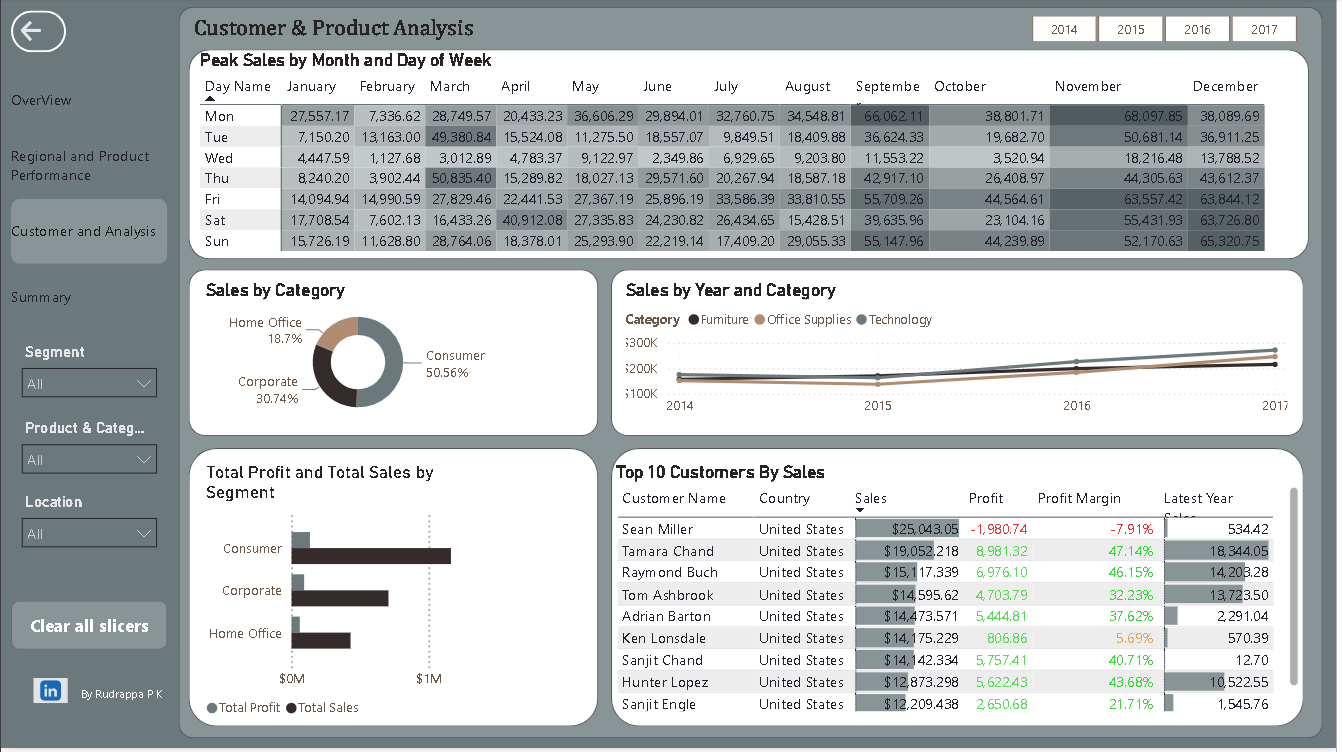

This screenshot's page, from the dashboard's own definition file:
{"tool":"powerbi","page":{"name":"Customer and Analysis","canvas":[1280,720],"ordinal":2},"visuals":[{"type":"shape","box":[170,8.6,1097.1,701.4],"z":0},{"type":"textbox","box":[180,11.4,440,44.3],"z":1000},{"type":"slicer","fields":{"Values":["Sample_Superstore_Clean.Year"]},"box":[962.5,10,303.8,38.8],"z":2000},{"type":"shape","box":[180,431.4,392.9,267.1],"z":3000},{"type":"clusteredBarChart","fields":{"Category":["Sample_Superstore_Clean.Segment"],"Y":["Sample_Superstore_Clean.Total Profit","Sample_Superstore_Clean.Total Sales"]},"box":[191.4,444.3,301.4,254.3],"z":4000},{"type":"shape","box":[180,260,392.9,160],"z":5000},{"type":"donutChart","title":"Sales by Category","fields":{"Category":["Sample_Superstore_Clean.Segment"],"Y":["Sample_Superstore_Clean.Total Sales"]},"box":[191.4,270,301.4,140],"z":6000},{"type":"shape","box":[180,48.6,1074.3,201.4],"z":7000},{"type":"pivotTable","title":"Peak Sales by Month and Day of Week","fields":{"Columns":["Sample_Superstore_Clean.Month"],"Rows":["Sample_Superstore_Clean.Day Name"],"Values":["Sum(Sample_Superstore_Clean.Sales)"]},"box":[185.7,48.6,1062.9,198.6],"z":8000},{"type":"shape","box":[584.3,260,664.3,160],"z":9000},{"type":"lineChart","title":"Sales by Year and Category","fields":{"Category":["Sample_Superstore_Clean.Year"],"Series":["Sample_Superstore_Clean.Category"],"Y":["Sample_Superstore_Clean.Total Sales"]},"box":[594.3,270,644.3,140],"z":10000},{"type":"shape","box":[584.3,431.4,664.3,267.1],"z":11000},{"type":"tableEx","title":"Top 10 Customers By Sales","fields":{"Values":["Sample_Superstore_Clean.Customer Name","Sample_Superstore_Clean.Country","Sample_Superstore_Clean.Total Sales","Sample_Superstore_Clean.Total Profit","Sample_Superstore_Clean.Profit Margin","Sample_Superstore_Clean.Latest Year Sales"]},"box":[584.3,444.3,664.3,244.3],"z":12000},{"type":"pageNavigator","box":[10,65.7,150,255.7],"z":13001},{"type":"actionButton","box":[10,577.1,150,47.1],"z":13002},{"type":"slicer","fields":{"Values":["Sample_Superstore_Clean.Category","Sample_Superstore_Clean.Sub-Category"]},"box":[10,398.6,150,84.3],"z":13003},{"type":"slicer","fields":{"Values":["Sample_Superstore_Clean.Region","Sample_Superstore_Clean.State"]},"box":[10,470,150,84.3],"z":13004},{"type":"slicer","fields":{"Values":["Sample_Superstore_Clean.Segment"]},"box":[10,325.7,150,71.4],"z":13005},{"type":"image","box":[24.3,651.4,47.1,24.3],"z":13006},{"type":"textbox","box":[71.4,651.4,88.6,58.6],"z":13007},{"type":"actionButton","box":[10,11.4,52.9,40],"z":13008}]}

Visuals, with their boxes on the page's 1280x720 design canvas (x1, y1, x2, y2). These are canvas units, not pixel positions in the 1342x752 screenshot, which may show the page scaled, cropped or inside an application window:
shape: <region>170, 9, 1267, 710</region>
textbox: <region>180, 11, 620, 56</region>
slicer - Sample_Superstore_Clean.Year: <region>962, 10, 1266, 49</region>
shape: <region>180, 431, 573, 698</region>
clusteredBarChart - Sample_Superstore_Clean.Segment x Sample_Superstore_Clean.Total Profit: <region>191, 444, 493, 699</region>
shape: <region>180, 260, 573, 420</region>
"Sales by Category" donutChart: <region>191, 270, 493, 410</region>
shape: <region>180, 49, 1254, 250</region>
"Peak Sales by Month and Day of Week" pivotTable: <region>186, 49, 1249, 247</region>
shape: <region>584, 260, 1249, 420</region>
"Sales by Year and Category" lineChart: <region>594, 270, 1239, 410</region>
shape: <region>584, 431, 1249, 698</region>
"Top 10 Customers By Sales" tableEx: <region>584, 444, 1249, 689</region>
pageNavigator: <region>10, 66, 160, 321</region>
actionButton: <region>10, 577, 160, 624</region>
slicer - Sample_Superstore_Clean.Category x Sample_Superstore_Clean.Sub-Category: <region>10, 399, 160, 483</region>
slicer - Sample_Superstore_Clean.Region x Sample_Superstore_Clean.State: <region>10, 470, 160, 554</region>
slicer - Sample_Superstore_Clean.Segment: <region>10, 326, 160, 397</region>
image: <region>24, 651, 71, 676</region>
textbox: <region>71, 651, 160, 710</region>
actionButton: <region>10, 11, 63, 51</region>
